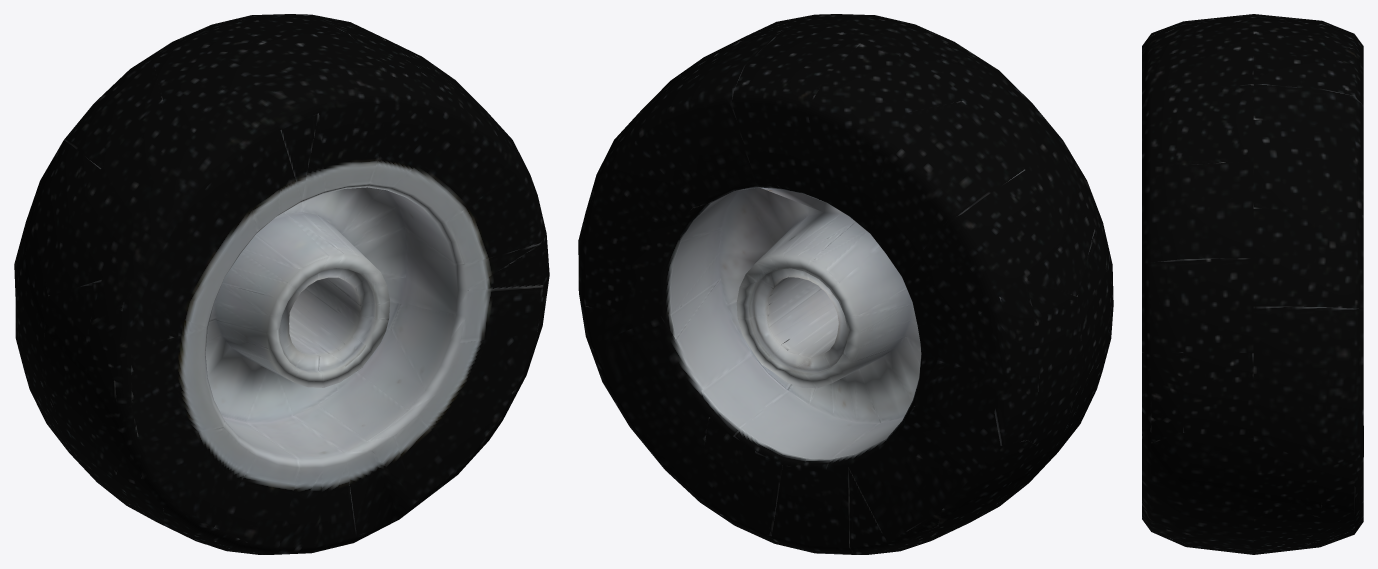
File: roadster-wheel.glb
3 renders of one model, left to right at view 1: azimuth 30°, elevation 25°; view 2: azimuth 150°, elevation 25°; view 3: azimuth 270°, elevation 25°, orthographic.
Visible parts, largest first — view 1: geometry_0; view 2: geometry_0; view 3: geometry_0.
Part boxes in pixels (x1,y1,x2,y2): geometry_0: (14,14,549,554); geometry_0: (578,14,1113,554); geometry_0: (1142,14,1363,554).
Bounding box in the file's own units: 0.9575 × 0.9517 × 0.3906.
1 material, 1 textured.
